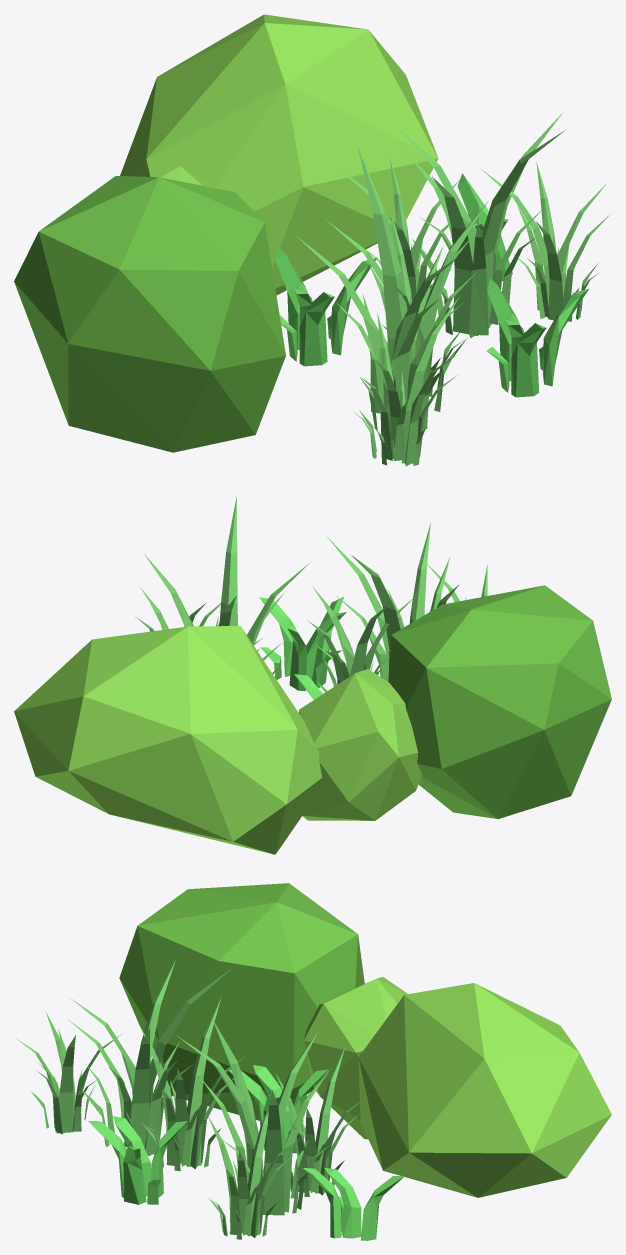
Rendered from vegetacion2.glb.
3 renders of one model, top to bottom at view 1: azimuth 30°, elevation 25°; view 2: azimuth 150°, elevation 25°; view 3: azimuth 270°, elevation 25°, orthographic. The views are drawn at different scales.
Parts seen in each view (by area): view 1: Object_27, Object_26, Object_122, Object_146; view 2: Object_26, Object_27, Object_122, Object_146; view 3: Object_26, Object_27, Object_122, Object_146.
Part boxes in pixels (x1=…): Object_27: x1=14, y1=176, x2=285, y2=452; Object_26: x1=120, y1=14, x2=438, y2=295; Object_122: x1=296, y1=113, x2=610, y2=466; Object_146: x1=275, y1=173, x2=588, y2=397; Object_26: x1=14, y1=626, x2=422, y2=854; Object_27: x1=388, y1=585, x2=611, y2=818; Object_122: x1=135, y1=496, x2=487, y2=692; Object_146: x1=259, y1=597, x2=378, y2=699; Object_26: x1=303, y1=977, x2=611, y2=1197; Object_27: x1=119, y1=883, x2=364, y2=1120; Object_122: x1=16, y1=959, x2=369, y2=1239; Object_146: x1=88, y1=1065, x2=404, y2=1240.
Bounding box in the file's own units: 0.9352 × 0.4292 × 1.05.
